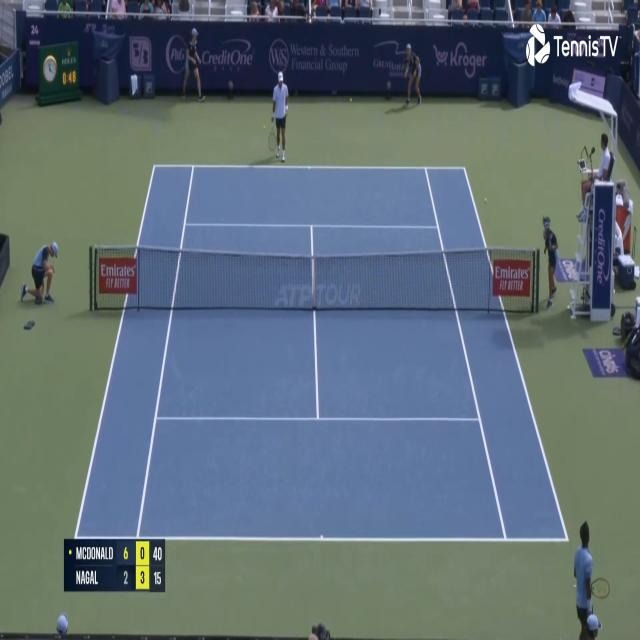tennis-player: (570, 514, 610, 639), (268, 68, 290, 163)
